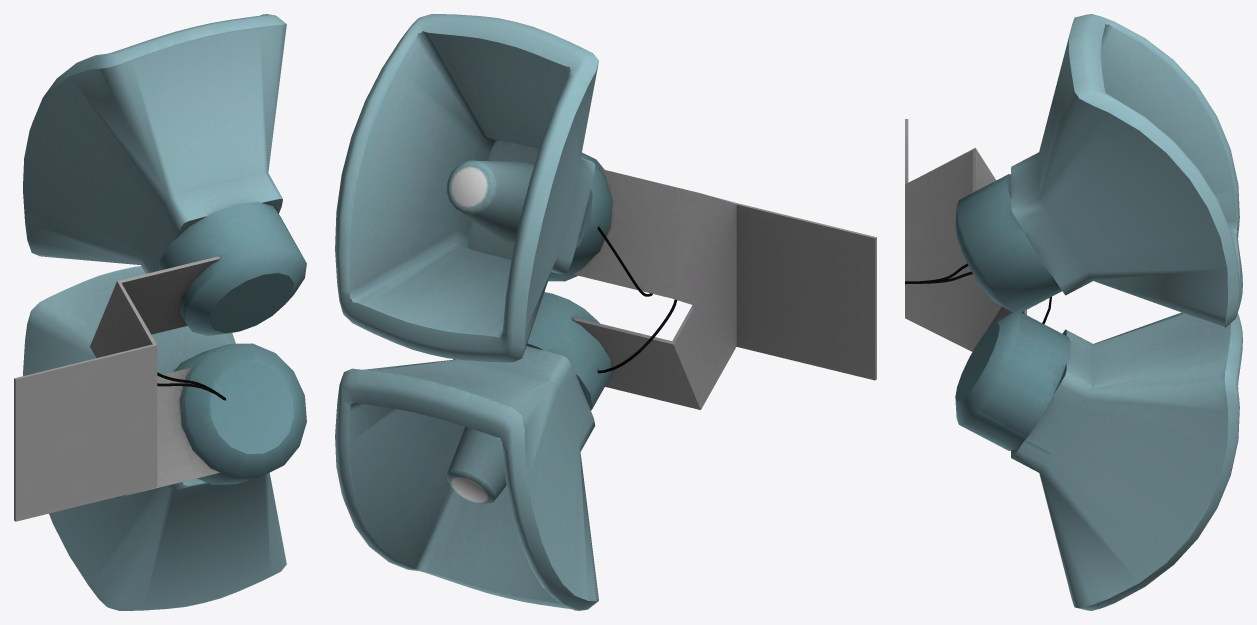
The model's file is props_spytech_siren001.glb.
3 views of the same model, side by side, from view 1: azimuth 30°, elevation 25°; view 2: azimuth 150°, elevation 25°; view 3: azimuth 270°, elevation 25° (orthographic). The views are drawn at different scales.
Parts seen in each view (by area): view 1: models/props_spytech/siren001; view 2: models/props_spytech/siren001; view 3: models/props_spytech/siren001.
Part boxes in pixels (x1=…): models/props_spytech/siren001: x1=14, y1=14, x2=306, y2=610; models/props_spytech/siren001: x1=335, y1=14, x2=876, y2=610; models/props_spytech/siren001: x1=905, y1=14, x2=1242, y2=610.
Size of the model in its own units: 63.48 by 92.89 by 52.54.
Materials: 1 (1 with a texture image).
